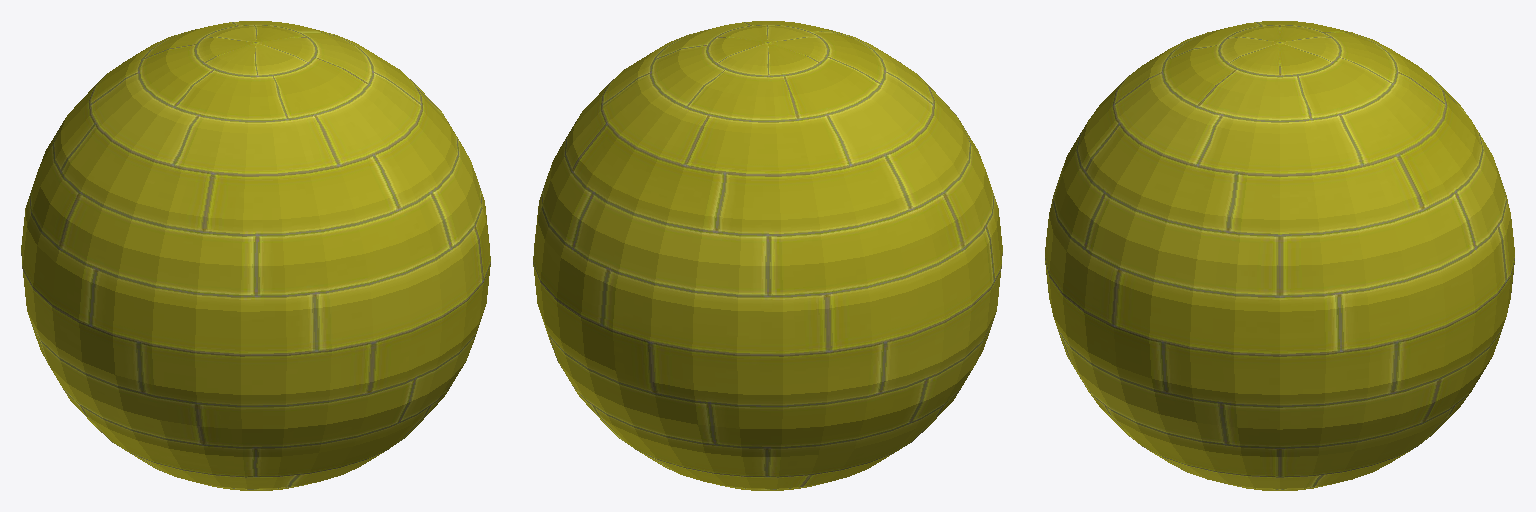
The picture shows the model from 3 angles: view 1: azimuth 30°, elevation 25°; view 2: azimuth 150°, elevation 25°; view 3: azimuth 270°, elevation 25°; orthographic projection.
Parts seen in each view (by area): view 1: Sphere; view 2: Sphere; view 3: Sphere.
Boxes of the visible parts, box(x1,y1,x2,y2) form: Sphere: box(21, 21, 490, 490); Sphere: box(533, 21, 1002, 490); Sphere: box(1045, 21, 1514, 490).
Size of the model in its own units: 0.5311 by 0.5311 by 0.5311.
1 materials, 1 textured.